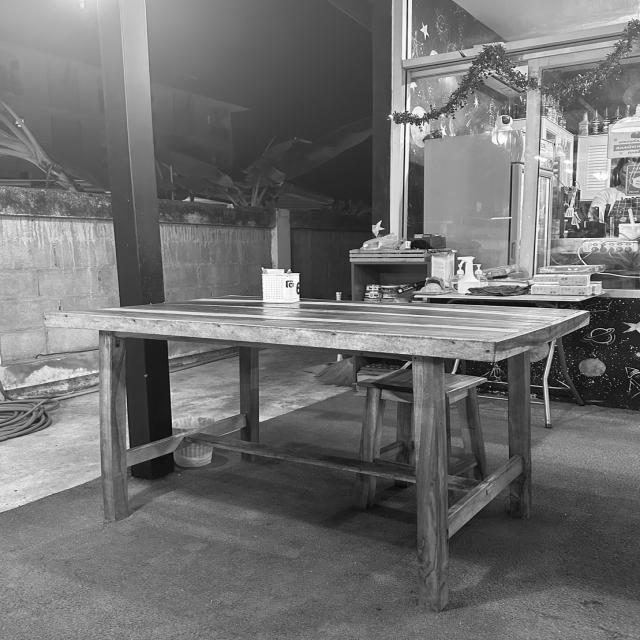table: (31, 268, 588, 412)
